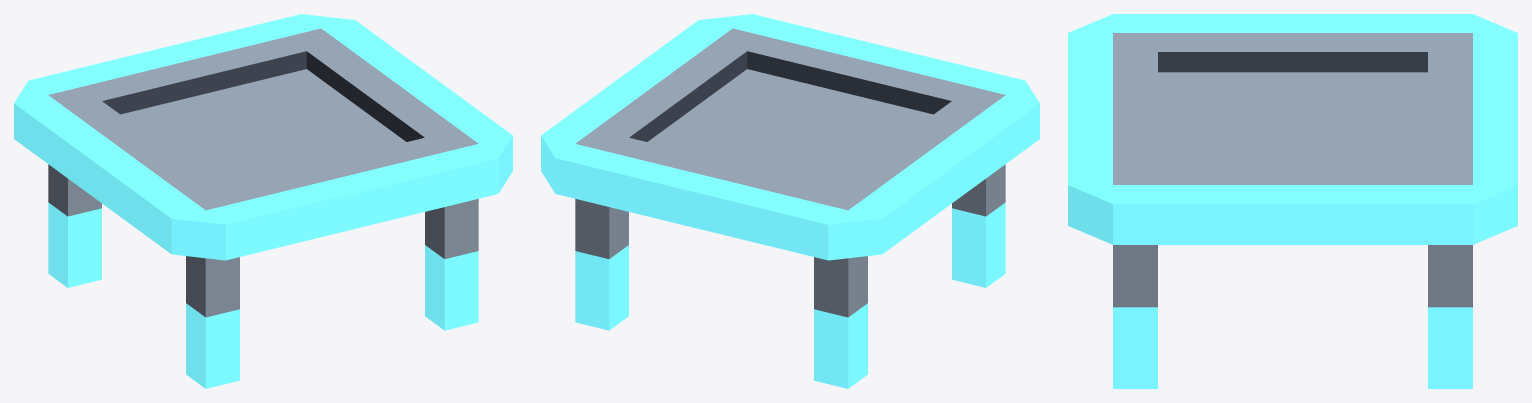
The model's file is platform_low.glb.
The picture shows the model from 3 angles, left to right: view 1: azimuth 30°, elevation 25°; view 2: azimuth 150°, elevation 25°; view 3: azimuth 270°, elevation 25°; orthographic projection. The views are drawn at different scales.
Parts seen in each view (by area): view 1: platform_low; view 2: platform_low; view 3: platform_low.
Part boxes in pixels (x1,y1,x2,y2): platform_low: [14, 14, 512, 388]; platform_low: [541, 14, 1039, 388]; platform_low: [1068, 14, 1517, 388].
Size of the model in its own units: 1 by 0.5 by 1.
